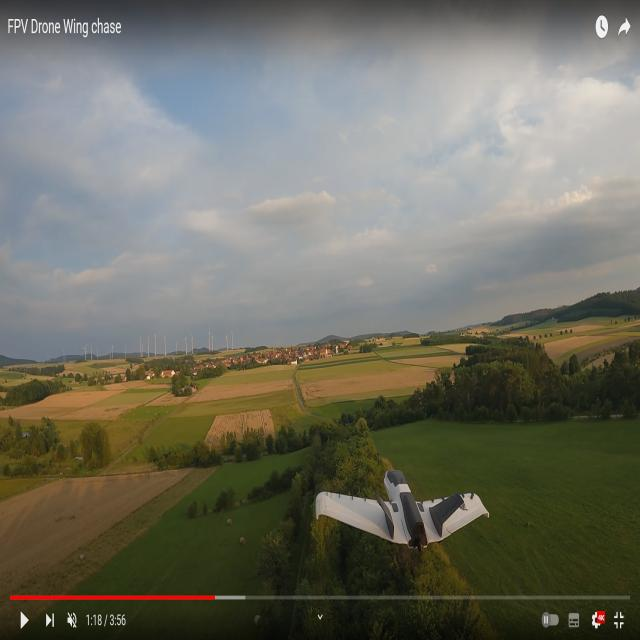iha: (318, 499, 487, 523)
